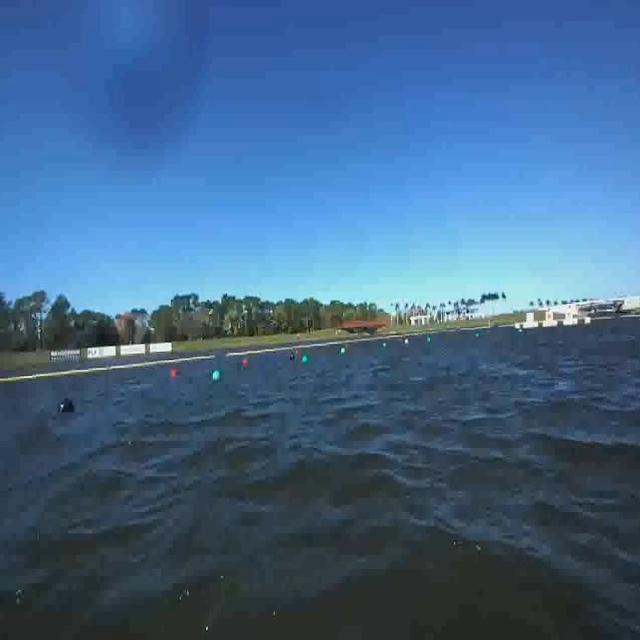black-buoy: (59, 395, 78, 425)
green-buoy: (209, 368, 225, 386)
red-buoy: (172, 368, 180, 381), (243, 358, 249, 366)
